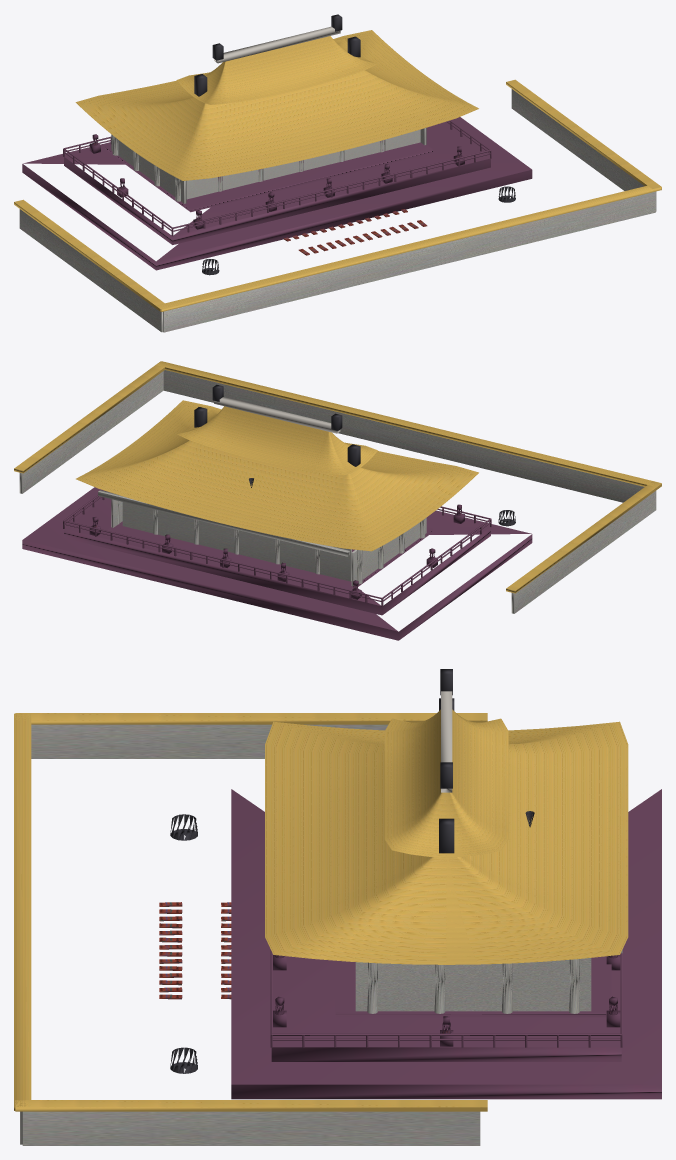
3 views of the same model, one above another, from view 1: azimuth 30°, elevation 25°; view 2: azimuth 150°, elevation 25°; view 3: azimuth 270°, elevation 25° (orthographic). The views are drawn at different scales.
Parts seen in each view (by area): view 1: paljak_roof_two_tier_curved_eaves, haenggak_corridor_boundary, woldae_2tier_granite, geunjeongjeon_hall_columns_walls, sasinsu_sibijisin_stone_statues, pumgyeseok_rank_stones_courtyard; view 2: paljak_roof_two_tier_curved_eaves, haenggak_corridor_boundary, woldae_2tier_granite, geunjeongjeon_hall_columns_walls, sasinsu_sibijisin_stone_statues; view 3: paljak_roof_two_tier_curved_eaves, woldae_2tier_granite, haenggak_corridor_boundary, geunjeongjeon_hall_columns_walls, pumgyeseok_rank_stones_courtyard, sasinsu_sibijisin_stone_statues, deumu_bronze_water_cauldrons.
Part boxes in pixels (x1=…): paljak_roof_two_tier_curved_eaves: x1=75, y1=14, x2=478, y2=180; haenggak_corridor_boundary: x1=14, y1=79, x2=661, y2=332; woldae_2tier_granite: x1=22, y1=117, x2=532, y2=270; geunjeongjeon_hall_columns_walls: x1=105, y1=127, x2=432, y2=212; sasinsu_sibijisin_stone_statues: x1=89, y1=134, x2=464, y2=229; pumgyeseok_rank_stones_courtyard: x1=283, y1=209, x2=427, y2=255; paljak_roof_two_tier_curved_eaves: x1=76, y1=384, x2=478, y2=551; haenggak_corridor_boundary: x1=14, y1=361, x2=661, y2=613; woldae_2tier_granite: x1=22, y1=487, x2=532, y2=640; geunjeongjeon_hall_columns_walls: x1=98, y1=490, x2=432, y2=594; sasinsu_sibijisin_stone_statues: x1=89, y1=504, x2=464, y2=599; paljak_roof_two_tier_curved_eaves: x1=265, y1=669, x2=628, y2=964; woldae_2tier_granite: x1=231, y1=789, x2=661, y2=1099; haenggak_corridor_boundary: x1=14, y1=713, x2=487, y2=1145; geunjeongjeon_hall_columns_walls: x1=335, y1=950, x2=622, y2=1017; pumgyeseok_rank_stones_courtyard: x1=159, y1=902, x2=231, y2=999; sasinsu_sibijisin_stone_statues: x1=273, y1=955, x2=620, y2=1046; deumu_bronze_water_cauldrons: x1=170, y1=814, x2=197, y2=1073.
Bounding box in the file's own units: 69.3 × 19.1 × 48.15.
5 materials, 5 textured.
